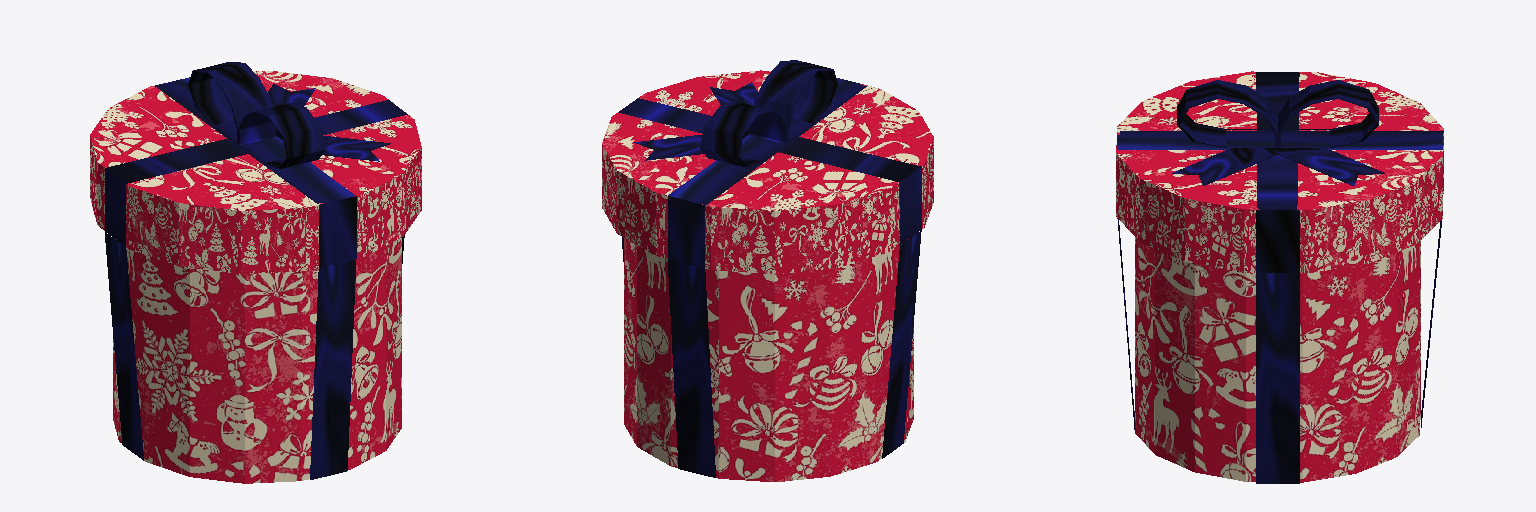
3 renders of one model, left to right at view 1: azimuth 30°, elevation 25°; view 2: azimuth 150°, elevation 25°; view 3: azimuth 270°, elevation 25°, orthographic.
Parts seen in each view (by area): view 1: Cylinder.006; view 2: Cylinder.006; view 3: Cylinder.006.
Boxes of the visible parts, x1,y1,x2,y2 form: Cylinder.006: [90, 62, 421, 483]; Cylinder.006: [602, 60, 933, 481]; Cylinder.006: [1116, 71, 1443, 483].
Bounding box in the file's own units: 2.26 × 2.54 × 2.26.
4 materials, 2 textured.